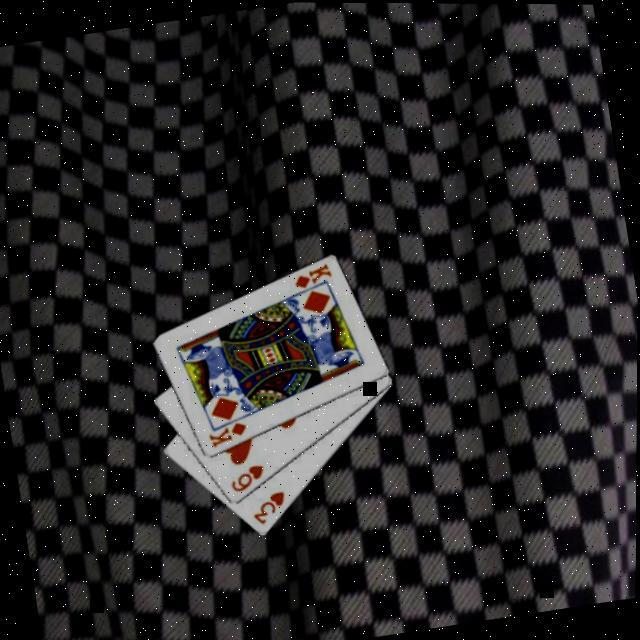3H: (250, 489, 295, 530)
6H: (228, 462, 272, 498)
KD: (206, 419, 254, 453), (291, 261, 338, 293)
